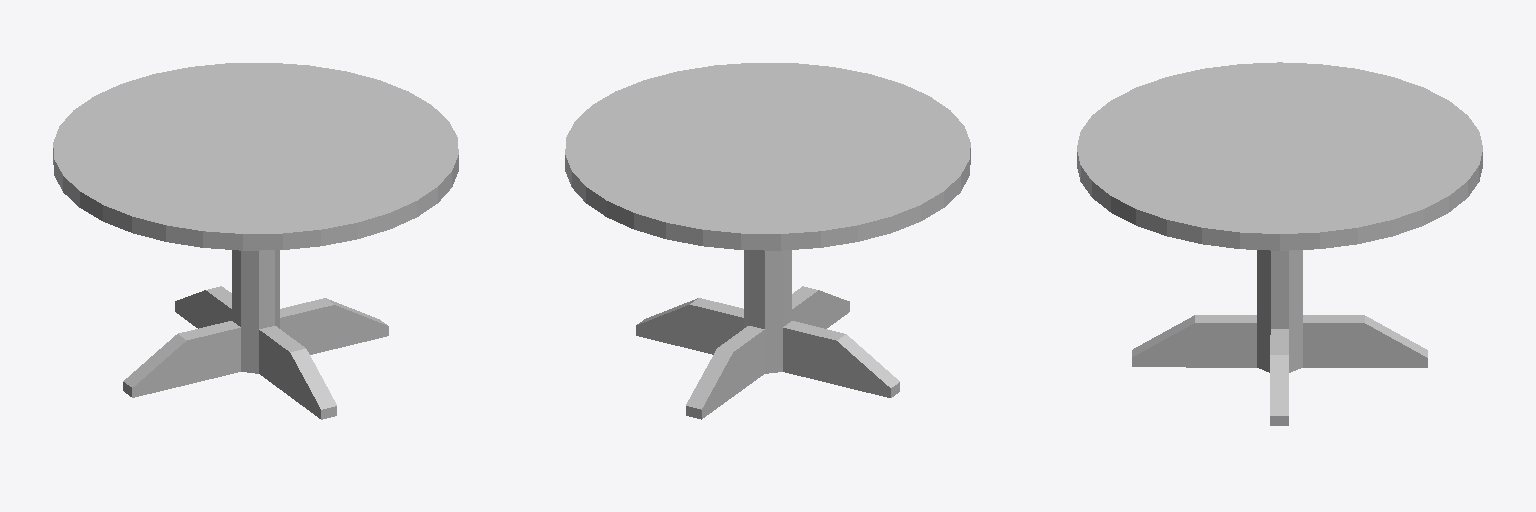
Rendered from TableDining.obj.
3 renders of one model, left to right at view 1: azimuth 30°, elevation 25°; view 2: azimuth 150°, elevation 25°; view 3: azimuth 270°, elevation 25°, orthographic.
Visible parts, largest first — view 1: TableDining.001; view 2: TableDining.001; view 3: TableDining.001.
Boxes of the visible parts, x1=… form: TableDining.001: x1=53, y1=63, x2=458, y2=419; TableDining.001: x1=565, y1=63, x2=970, y2=419; TableDining.001: x1=1077, y1=62, x2=1482, y2=425.
Bounding box in the file's own units: 1.29 × 0.7545 × 1.29.